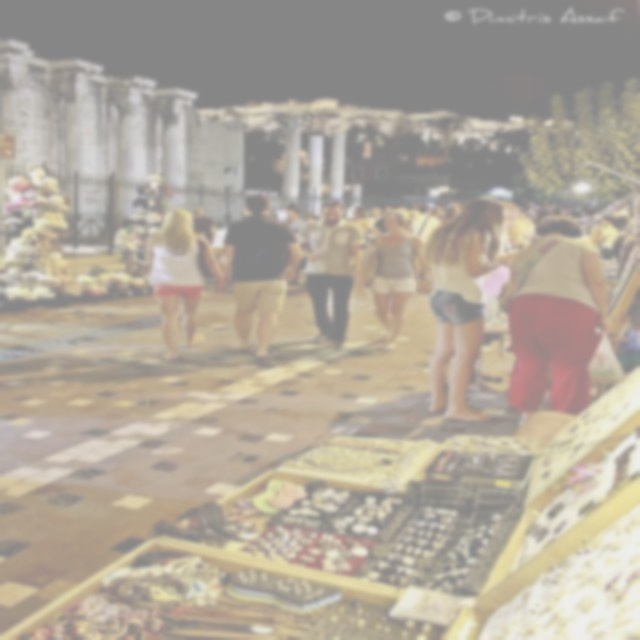pessoa: (493, 211, 623, 436), (421, 196, 520, 424), (216, 192, 305, 366), (285, 196, 368, 356), (147, 208, 227, 364), (355, 207, 436, 352), (109, 218, 154, 276), (521, 195, 616, 218), (345, 204, 374, 276), (593, 214, 622, 260), (411, 203, 440, 246), (191, 208, 217, 248), (494, 199, 523, 234), (431, 200, 465, 224), (282, 206, 309, 236), (362, 207, 385, 239), (370, 204, 386, 224), (391, 202, 420, 212)
